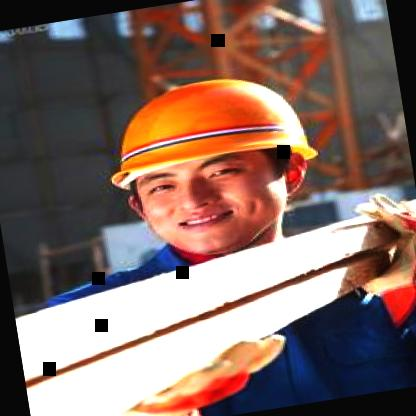helmet: (67, 44, 360, 284)
